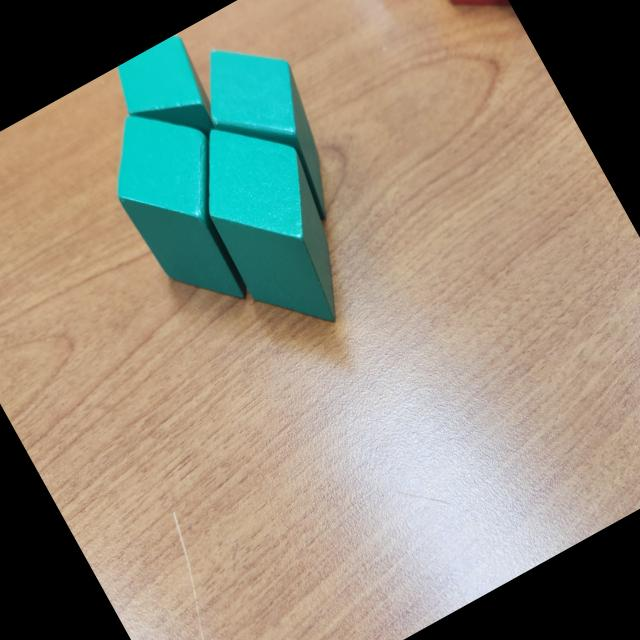green: (170, 99, 378, 352), (85, 86, 286, 330), (182, 20, 366, 245), (106, 31, 236, 170)
red: (398, 0, 513, 34)
